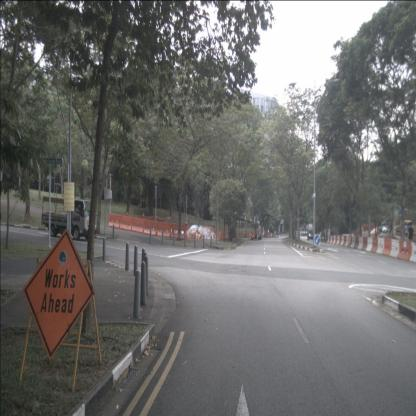human-pedestrian-adult: (407, 222, 414, 255)
movable_object-barrier: (397, 241, 412, 261), (171, 224, 188, 240), (156, 222, 172, 238), (143, 220, 158, 236), (119, 215, 133, 231), (381, 238, 393, 256), (131, 218, 145, 233), (389, 239, 400, 258), (108, 213, 121, 229), (408, 242, 416, 263), (376, 237, 385, 254), (370, 236, 379, 252), (365, 237, 374, 252), (357, 236, 364, 250), (361, 237, 368, 251), (354, 236, 360, 249), (344, 235, 350, 247), (350, 236, 356, 248), (340, 235, 345, 246), (342, 236, 347, 247), (347, 236, 352, 247), (338, 236, 343, 245), (334, 235, 338, 245), (330, 235, 334, 244), (336, 236, 340, 245), (331, 235, 335, 244), (333, 235, 336, 244), (328, 236, 331, 244), (327, 236, 330, 243)
movable_object-trafficcone: (218, 231, 220, 240)
vehicle-car: (308, 231, 314, 240)
vehicle-truck: (41, 196, 97, 241), (251, 224, 261, 240)
